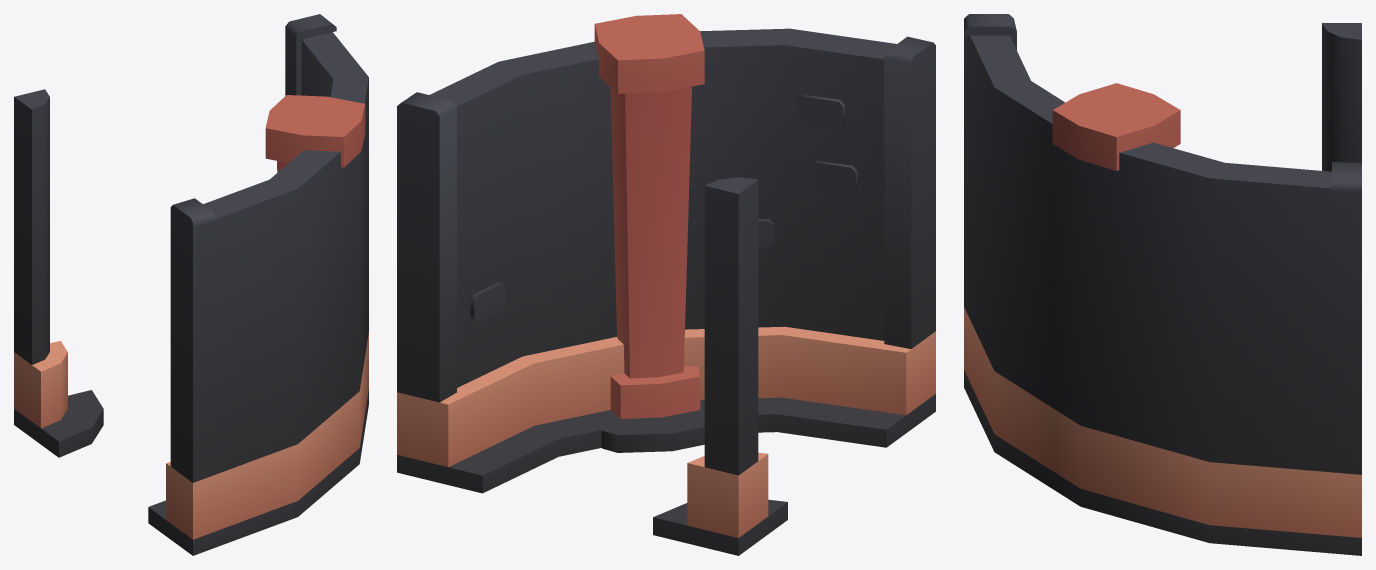
The model's file is CorridorCorner.obj.
The picture shows the model from 3 angles, left to right: view 1: azimuth 30°, elevation 25°; view 2: azimuth 150°, elevation 25°; view 3: azimuth 270°, elevation 25°; orthographic projection. The views are drawn at different scales.
Visible parts, largest first — view 1: corridor-corner; view 2: corridor-corner; view 3: corridor-corner.
Boxes of the visible parts, box(x1,y1,x2,y2) form: corridor-corner: box(14, 14, 368, 555); corridor-corner: box(397, 14, 935, 555); corridor-corner: box(964, 14, 1361, 555).
Bounding box in the file's own units: 4 × 4.23 × 4.
